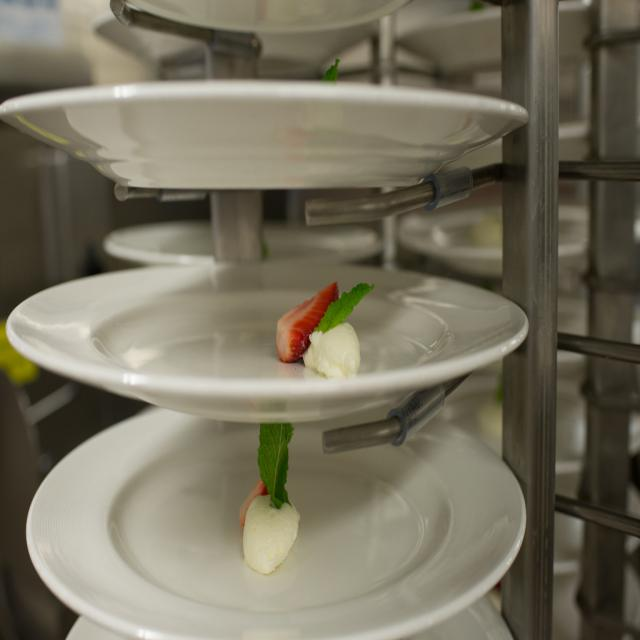non-organic waste: (0, 47, 558, 232), (23, 451, 550, 636), (7, 268, 565, 442)
